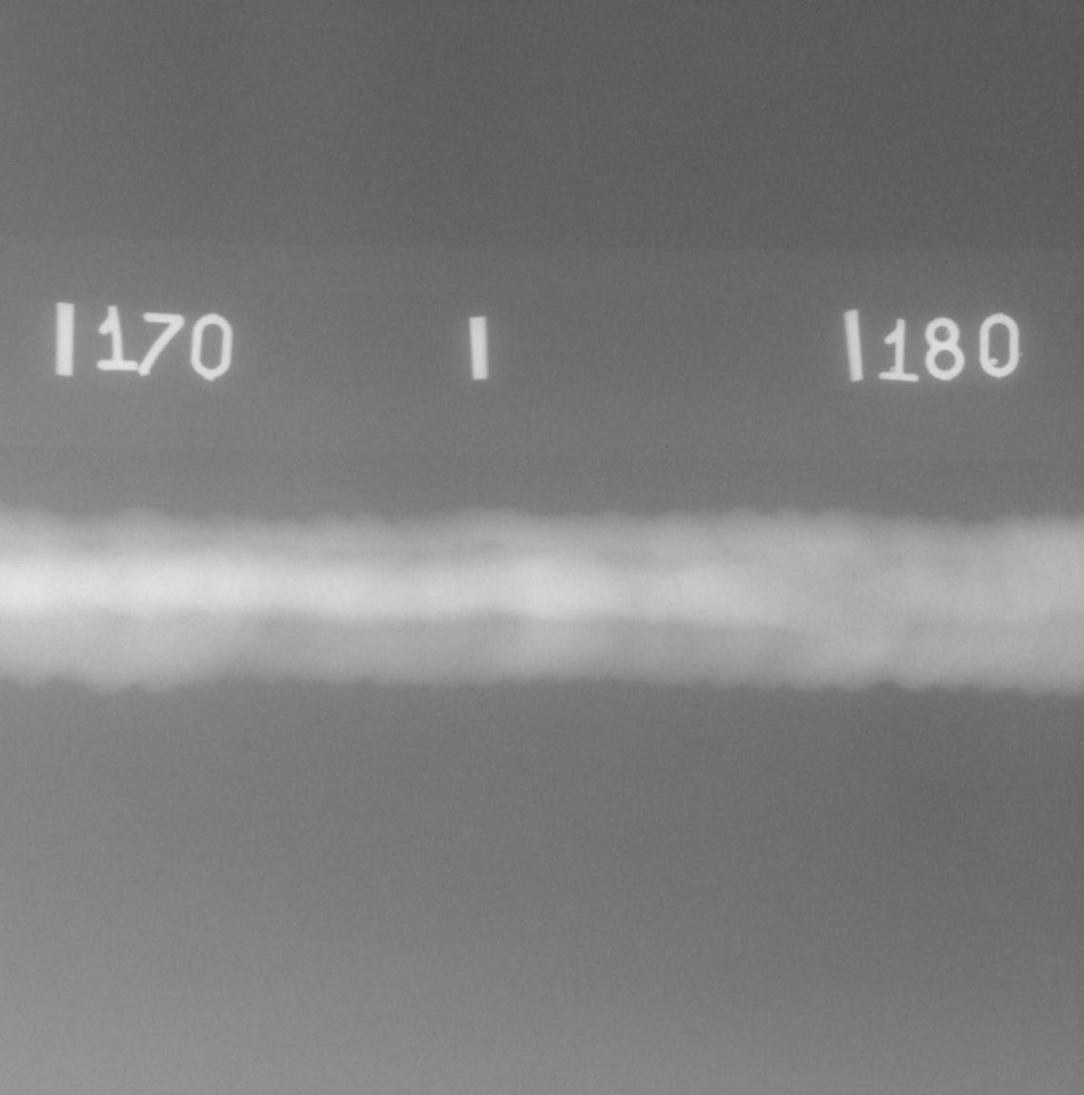Pore/Porosity: (677, 586, 682, 591)
